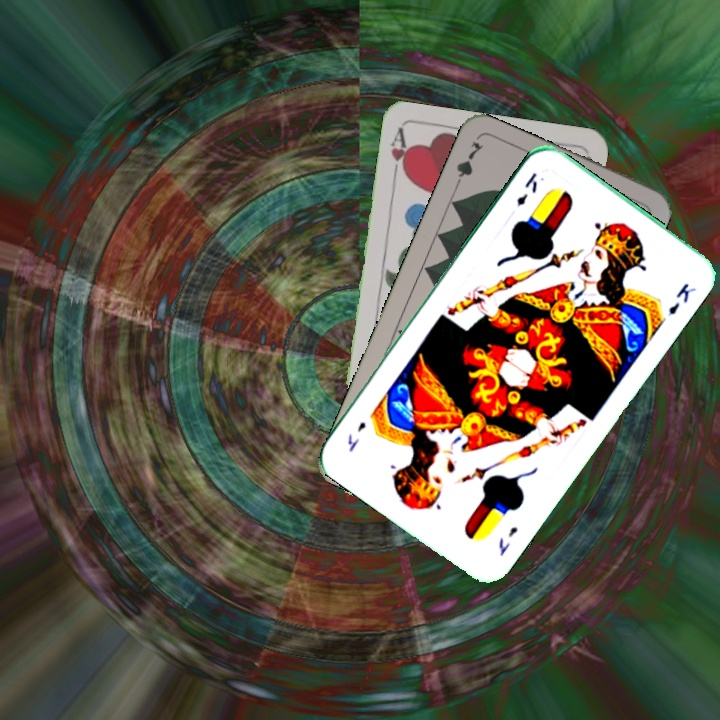EK: (512, 168, 540, 208), (494, 522, 521, 559)
G7: (450, 137, 486, 193)
HA: (386, 125, 413, 185)
